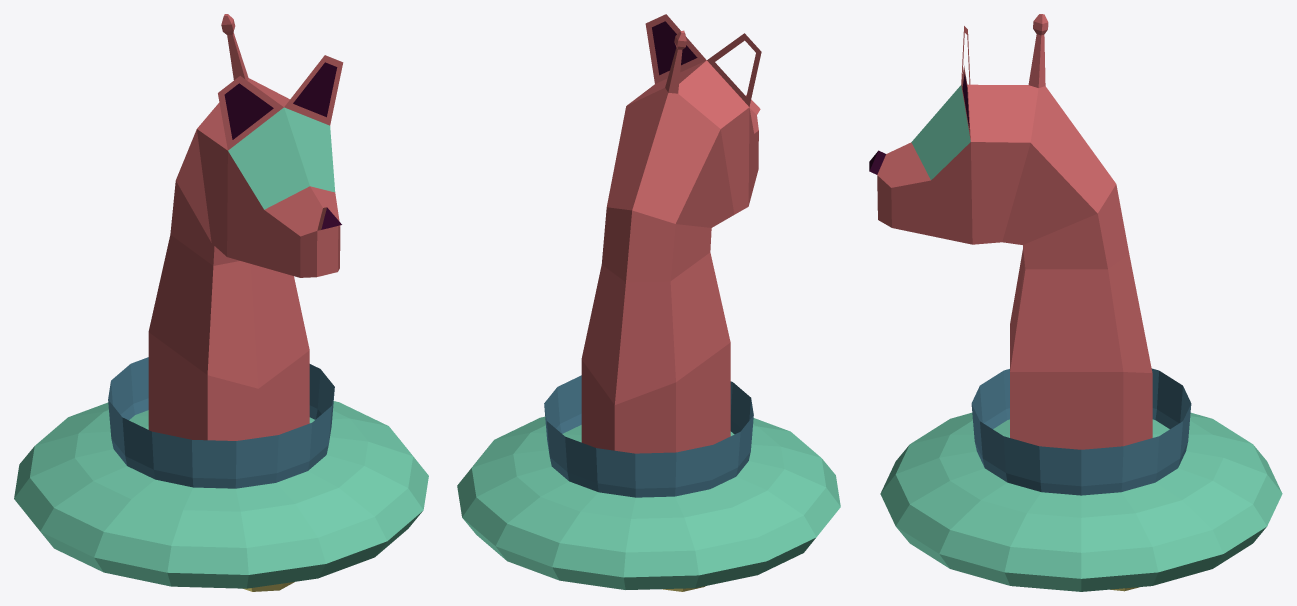
File: Dog Alien.fbx
3 views of the same model, side by side, from view 1: azimuth 30°, elevation 25°; view 2: azimuth 150°, elevation 25°; view 3: azimuth 270°, elevation 25° (orthographic). The views are drawn at different scales.
Visible parts, largest first — view 1: Sphere.001; view 2: Sphere.001; view 3: Sphere.001.
Boxes of the visible parts, x1=… form: Sphere.001: x1=14, y1=14, x2=428, y2=591; Sphere.001: x1=457, y1=14, x2=840, y2=591; Sphere.001: x1=869, y1=14, x2=1282, y2=591.
Size of the model in its own units: 200 by 295 by 205.
